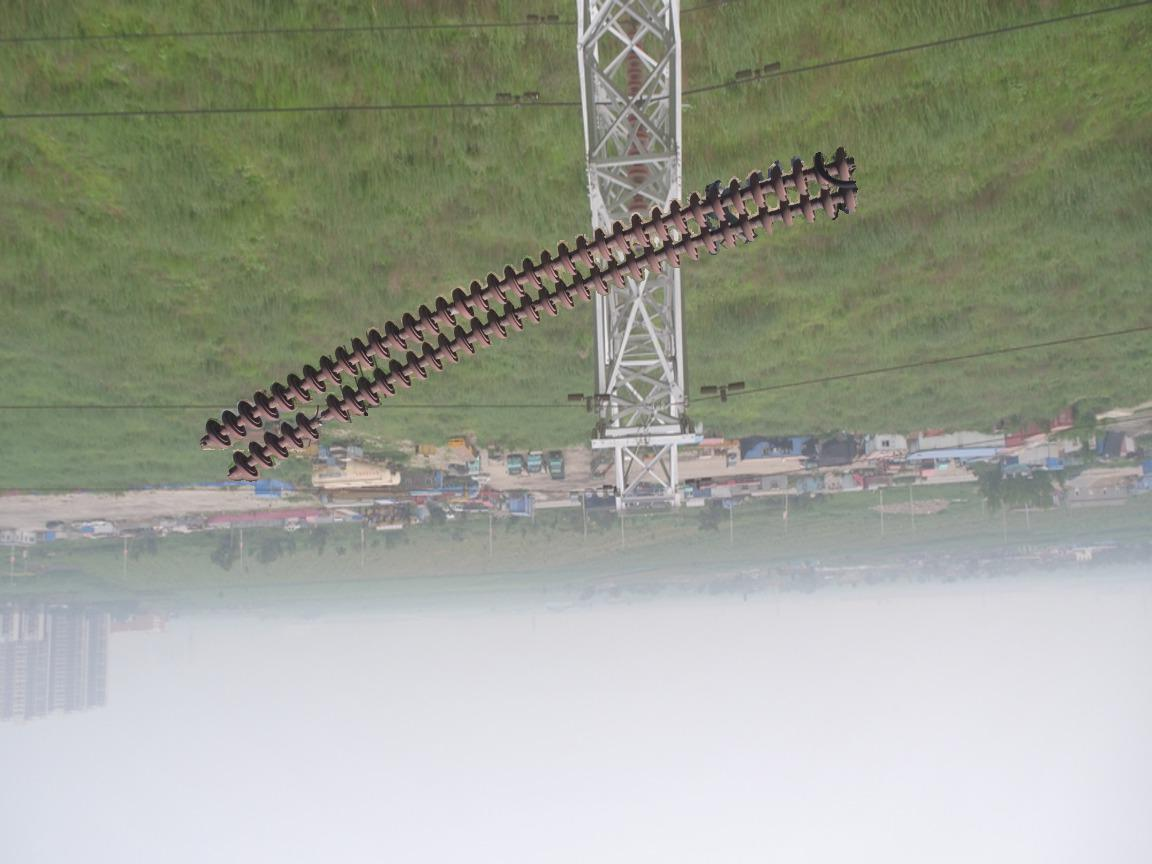insulator: (195, 142, 864, 486), (620, 25, 652, 215)
insulator_stringdrop: (292, 390, 354, 444)
